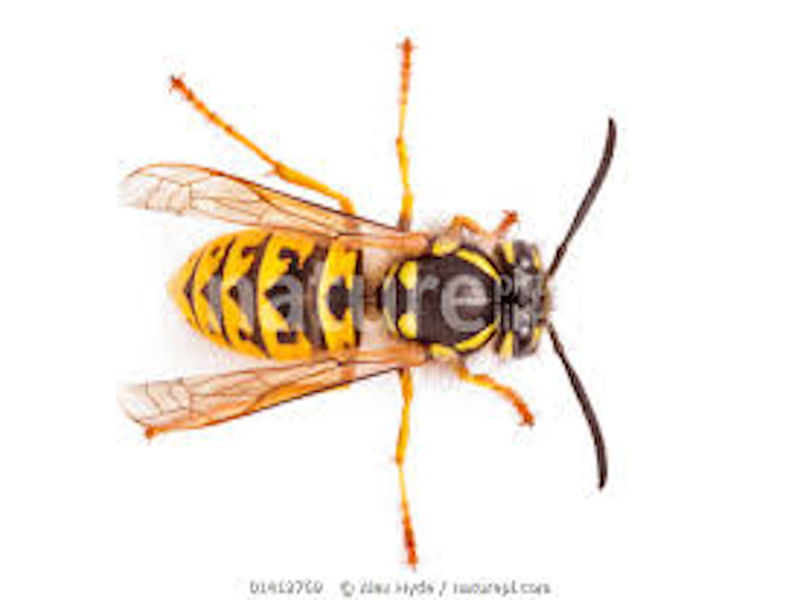chax: (111, 17, 641, 574)
